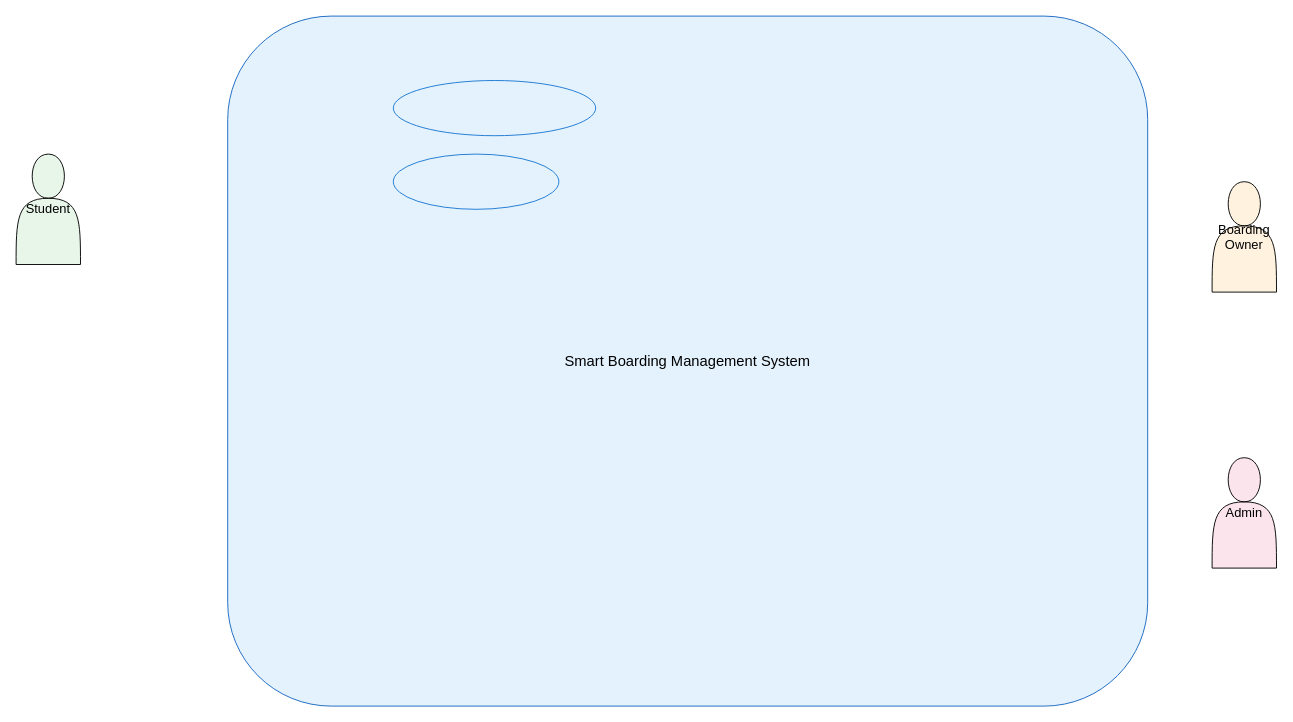
Some shapes in this 1293 by 722 pixel diagram are drawn without their labels. Each missing label, with the centre of its shape:
"Payment & Reminders" goes at (475,181).
"Search, Browse & Filter Boardings" goes at (494,108).
